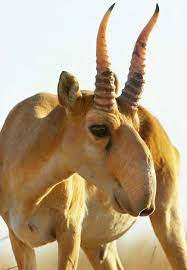saiga: (1, 4, 187, 270)
